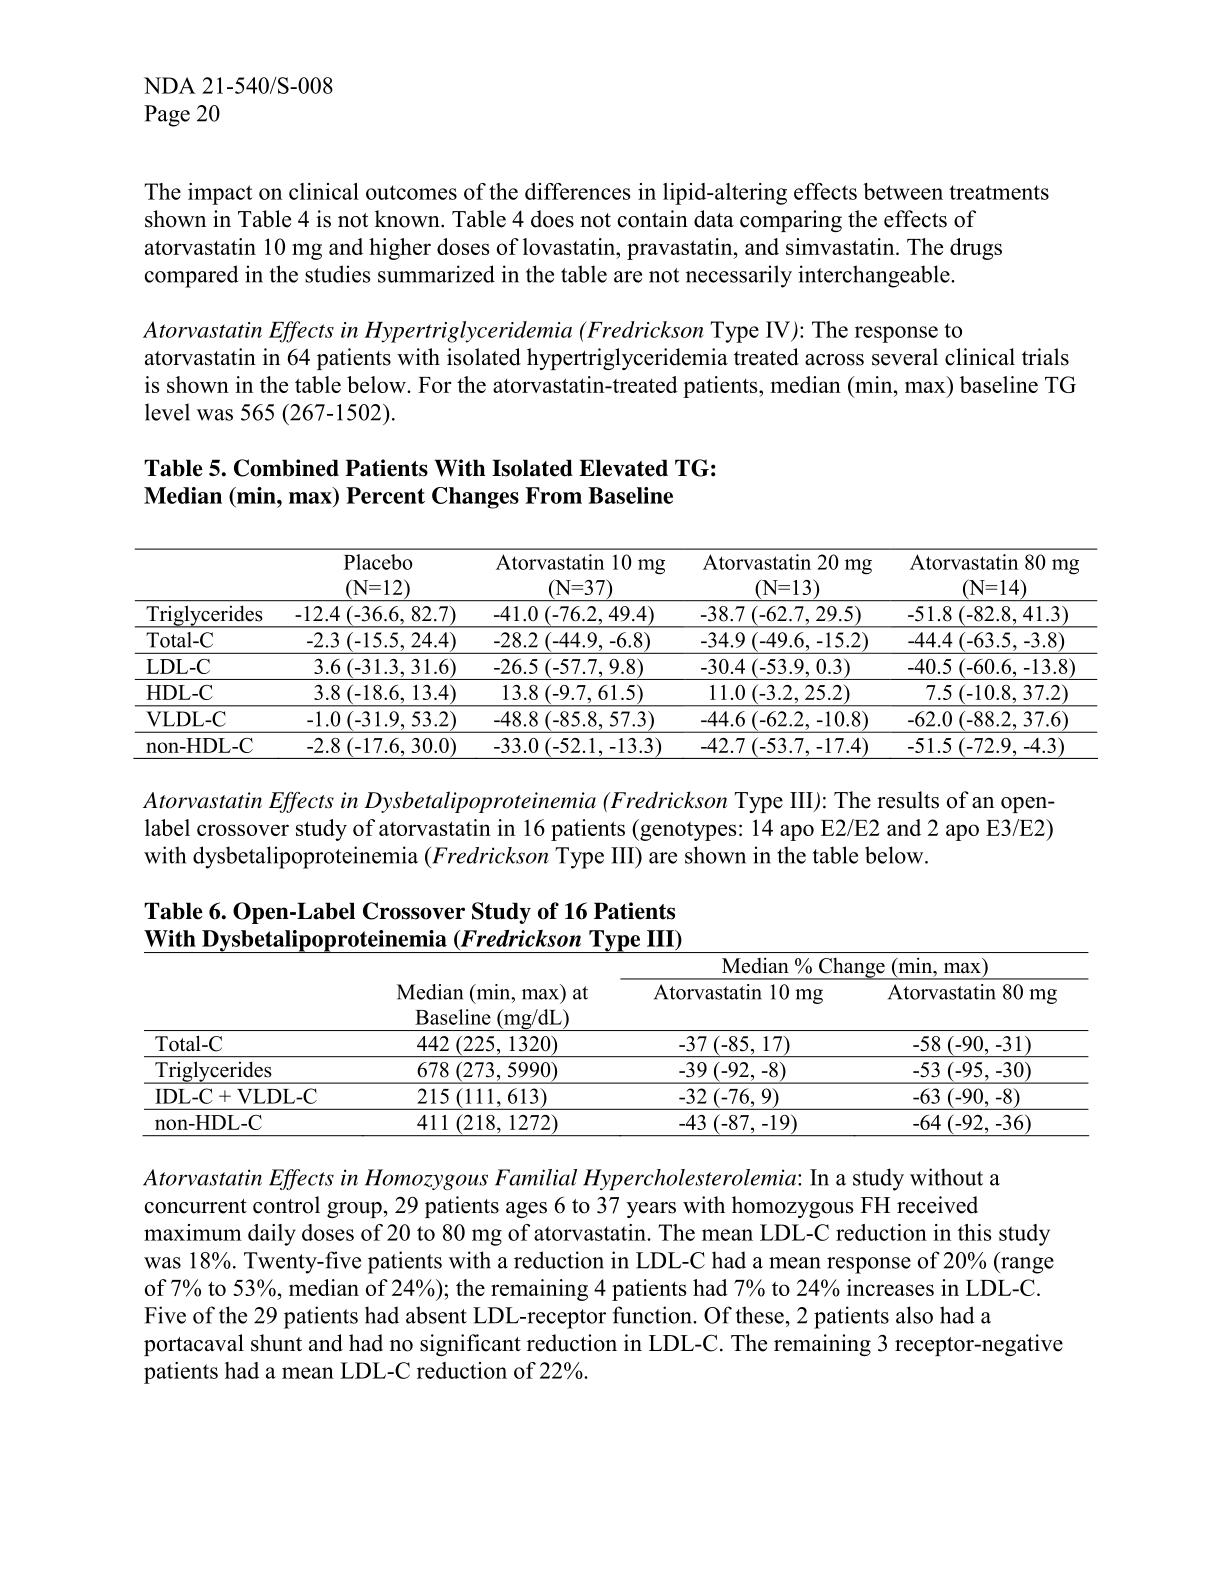partial_lined: (132, 546, 1099, 760)
partial_lined_merged_cells: (141, 950, 1092, 1137)
